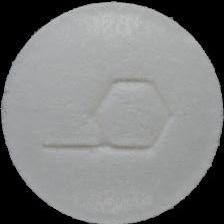50090-0490: (0, 0, 224, 224)
